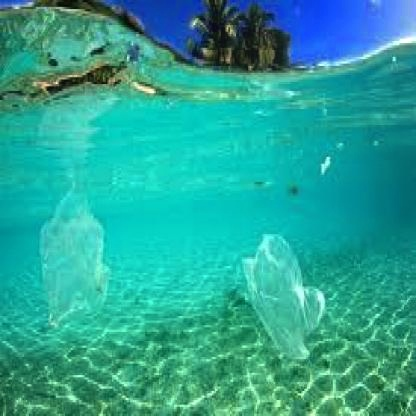pbag: (240, 232, 324, 368), (36, 181, 112, 330)
